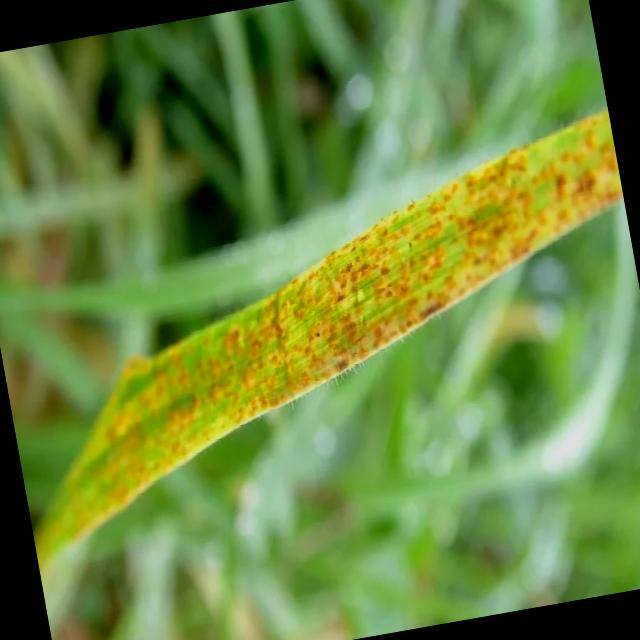leaf_rust: (34, 111, 623, 577)
